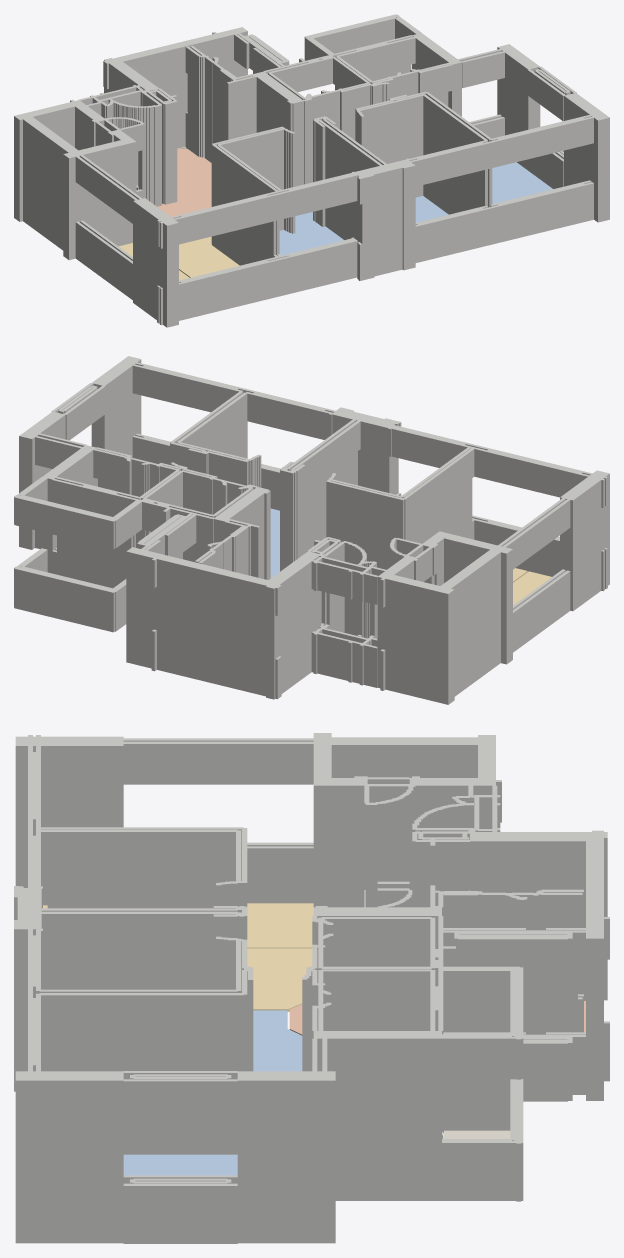
The picture shows the model from 3 angles, top to bottom: view 1: azimuth 30°, elevation 25°; view 2: azimuth 150°, elevation 25°; view 3: azimuth 270°, elevation 25°; orthographic projection. The views are drawn at different scales.
Visible parts, largest first — view 1: walls, room:kitchen:1, room:bedroom:10, room:living:7, room:bedroom:8, room:bedroom:9; view 2: walls, room:bedroom:9, room:living:6; view 3: walls, room:living:7, room:living:6, room:bedroom:8, room:bedroom:10.
Part boxes in pixels (x1,y1,x2,y2): walls: (14,14,609,327); room:kitchen:1: (157,148,211,216); room:bedroom:10: (492,162,552,203); room:living:7: (179,236,239,277); room:bedroom:8: (279,212,343,255); room:bedroom:9: (415,196,448,222); walls: (14,356,609,704); room:bedroom:9: (270,508,279,578); room:living:6: (513,571,551,605); walls: (14,733,609,1243); room:living:7: (247,948,312,1011); room:living:6: (43,903,313,948); room:bedroom:8: (253,1010,302,1071); room:bedroom:10: (123,1154,237,1175).
Size of the model in its own units: 12.88 by 2.8 by 9.31.
